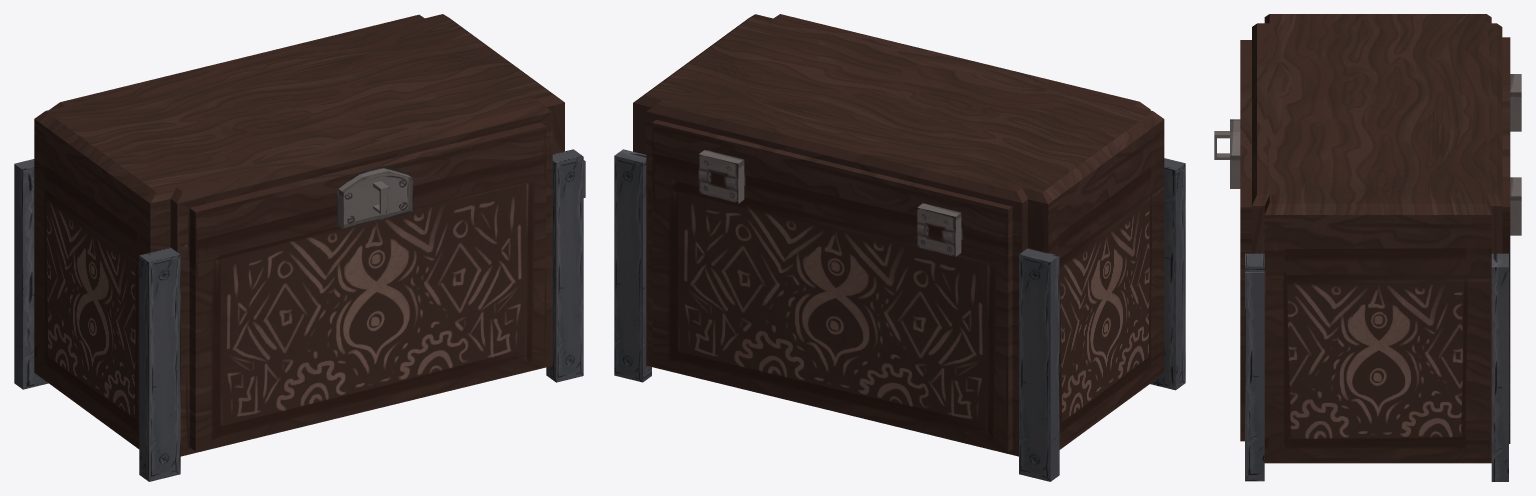
The model's file is chest without.fbx.
3 renders of one model, left to right at view 1: azimuth 30°, elevation 25°; view 2: azimuth 150°, elevation 25°; view 3: azimuth 270°, elevation 25°, orthographic. The views are drawn at different scales.
Parts seen in each view (by area): view 1: sandık alt, sandık üst; view 2: sandık alt, sandık üst; view 3: sandık üst, sandık alt.
Part boxes in pixels (x1=…): sandık alt: x1=14, y1=149, x2=585, y2=481; sandık üst: x1=34, y1=14, x2=564, y2=260; sandık alt: x1=614, y1=149, x2=1185, y2=481; sandık üst: x1=633, y1=14, x2=1164, y2=255; sandık üst: x1=1214, y1=14, x2=1521, y2=261; sandık alt: x1=1240, y1=122, x2=1521, y2=481.
Bounding box in the file's own units: 192 × 116 × 120.
Materials: 5 (5 with a texture image).
